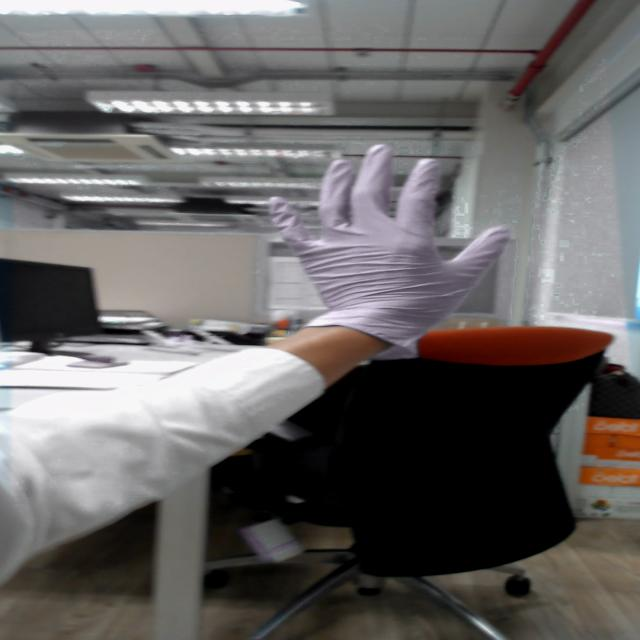glove: (263, 130, 541, 315)
